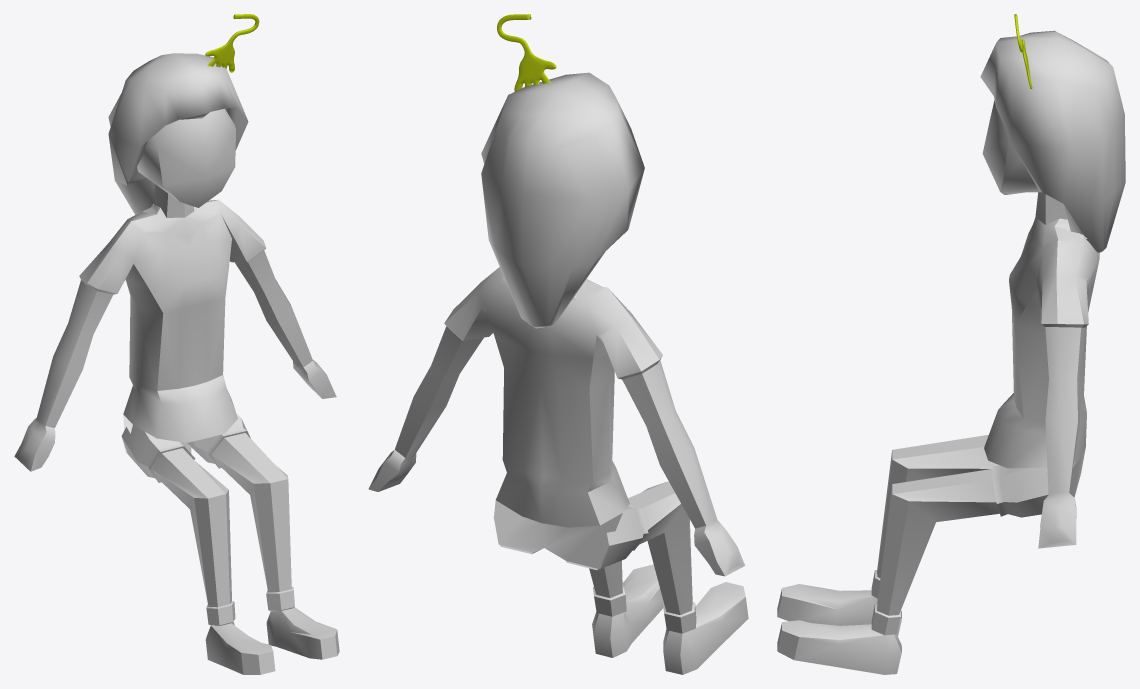
The model's file is perso4.fbx.
3 renders of one model, left to right at view 1: azimuth 30°, elevation 25°; view 2: azimuth 150°, elevation 25°; view 3: azimuth 270°, elevation 25°, orthographic. The views are drawn at different scales.
Visible parts, largest first — view 1: Corps, Habits, Cheveux, Acessoire; view 2: Habits, Corps, Cheveux, Acessoire; view 3: Corps, Cheveux, Habits.
Part boxes in pixels (x1,y1,x2,y2): Corps: (14,108,339,674); Habits: (79,199,266,453); Cheveux: (108,53,248,214); Acessoire: (205,14,259,72); Habits: (444,267,662,569); Corps: (368,326,748,674); Cheveux: (481,72,644,328); Acessoire: (497,14,556,91); Corps: (777,100,1084,674); Cheveux: (980,30,1125,252); Habits: (984,217,1099,497).
Size of the model in its own units: 43.15 by 78.73 by 37.54.
